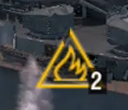2fire: (33, 55, 106, 93)
